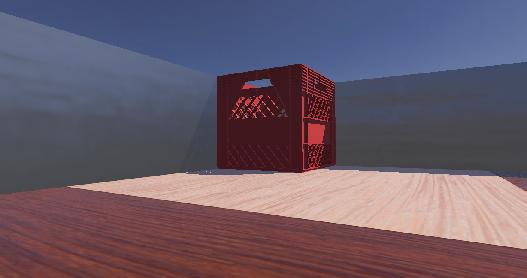PlasticCrate: (201, 60, 345, 177)
